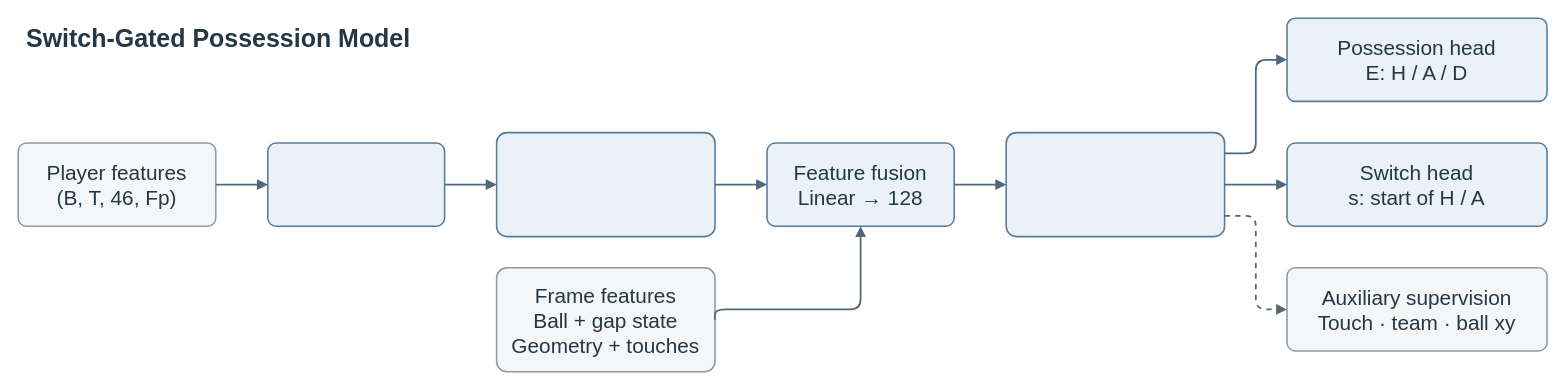
Image size: 1566x391. Some labels were removed from this diagram. Each missing label, with the centre of its shape:
"Bidirectional GRU 2 layers, 64 per side (B, T, 128)" goes at pixel 1115 184.
"Shared MLP Fp → 64 → 64" goes at pixel 356 184.
"Team pooling H / A means + counts (B, T, 130)" goes at pixel 605 184.
